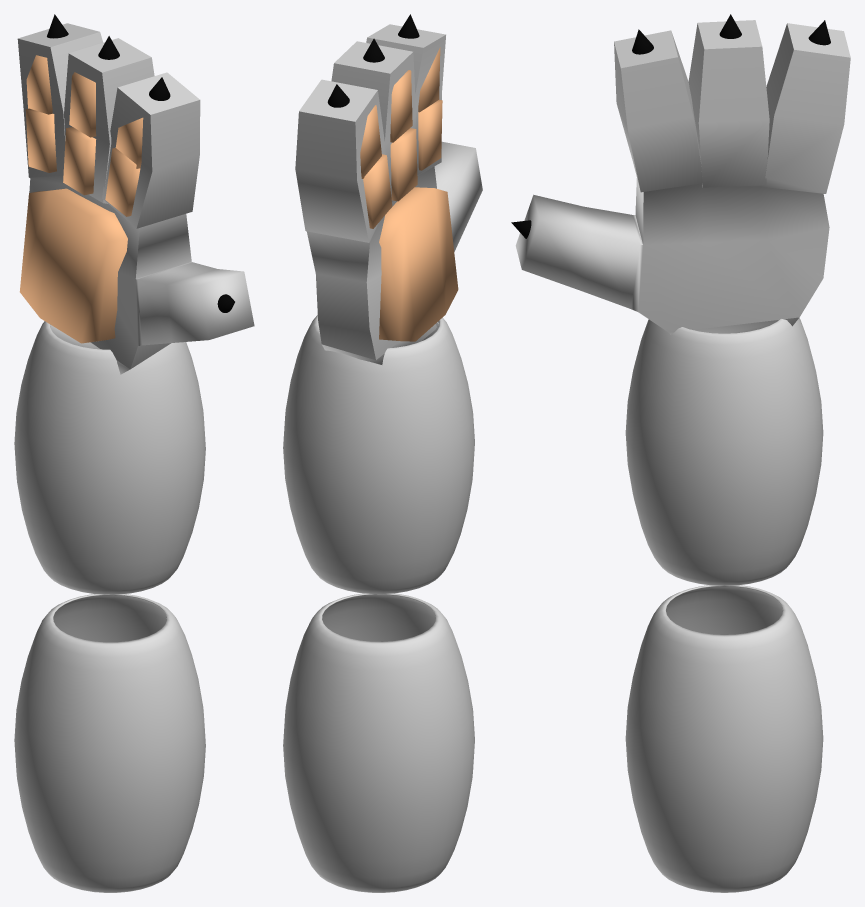
File: arm.glb
The picture shows the model from 3 angles, left to right: view 1: azimuth 30°, elevation 25°; view 2: azimuth 150°, elevation 25°; view 3: azimuth 270°, elevation 25°; orthographic projection. The views are drawn at different scales.
Visible parts, largest first — view 1: HAND.007, COSMETIC.006, COSMETIC.007; view 2: COSMETIC.006, HAND.007, COSMETIC.007; view 3: HAND.007, COSMETIC.006, COSMETIC.007.
Boxes of the visible parts, bbox=[...] form: HAND.007: bbox=[17, 14, 254, 374]; COSMETIC.006: bbox=[14, 594, 205, 892]; COSMETIC.007: bbox=[14, 321, 205, 594]; COSMETIC.006: bbox=[283, 593, 474, 892]; HAND.007: bbox=[295, 14, 482, 364]; COSMETIC.007: bbox=[283, 315, 474, 594]; HAND.007: bbox=[511, 14, 850, 334]; COSMETIC.006: bbox=[625, 585, 823, 892]; COSMETIC.007: bbox=[625, 318, 823, 585].
Bounding box in the file's own units: 0.2018 × 0.9616 × 0.3466.
